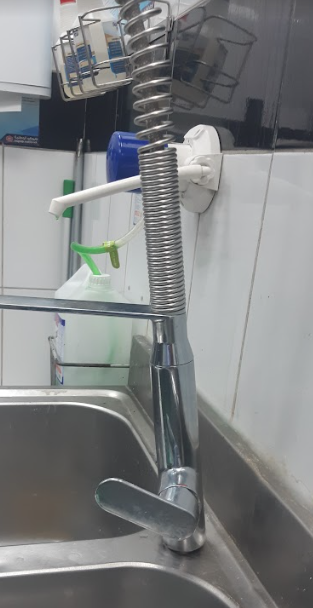Deck Faucet: (46, 2, 241, 562)
